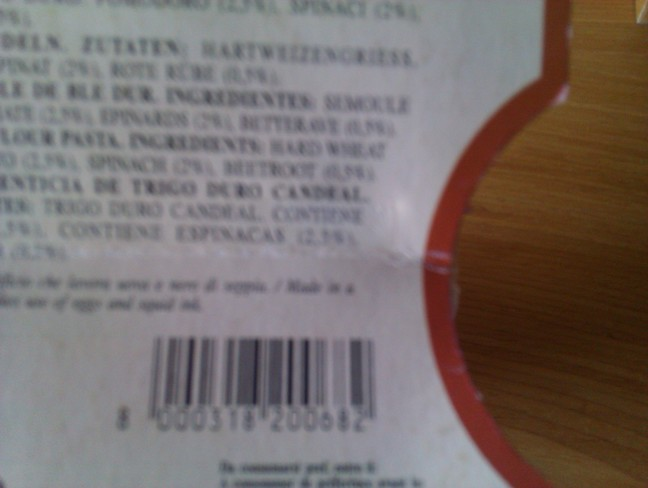barcode: (100, 329, 399, 446)
